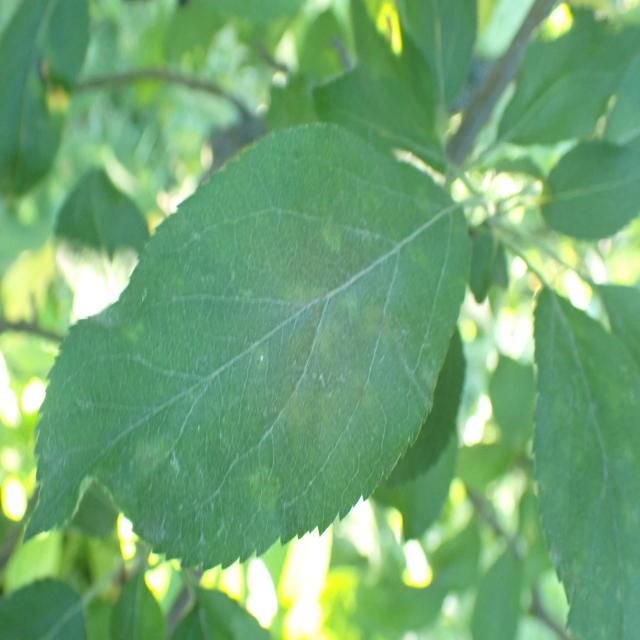scab: (79, 189, 435, 539)
